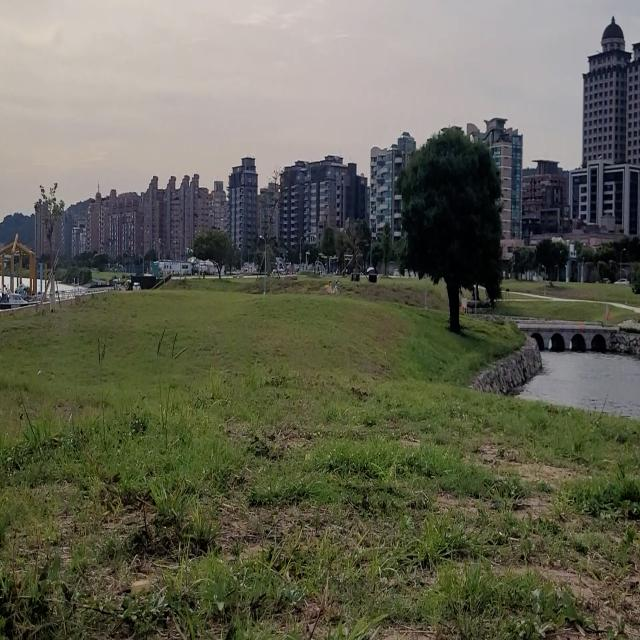grass: (0, 289, 640, 639)
